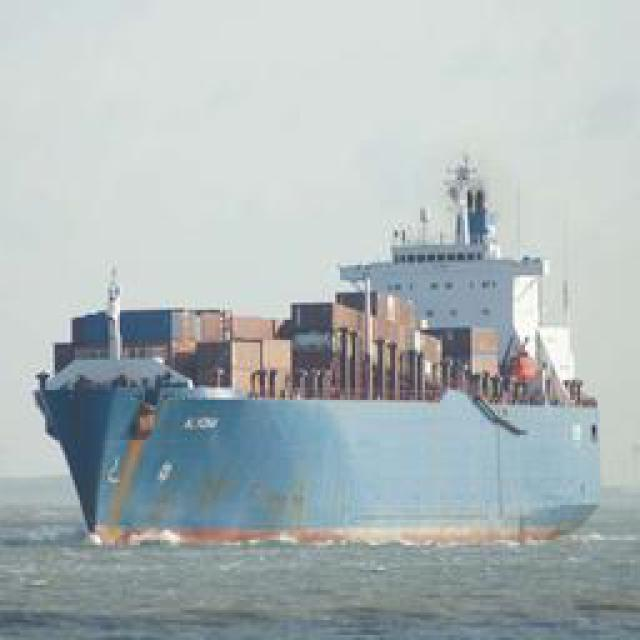Ship: (28, 138, 622, 562)
